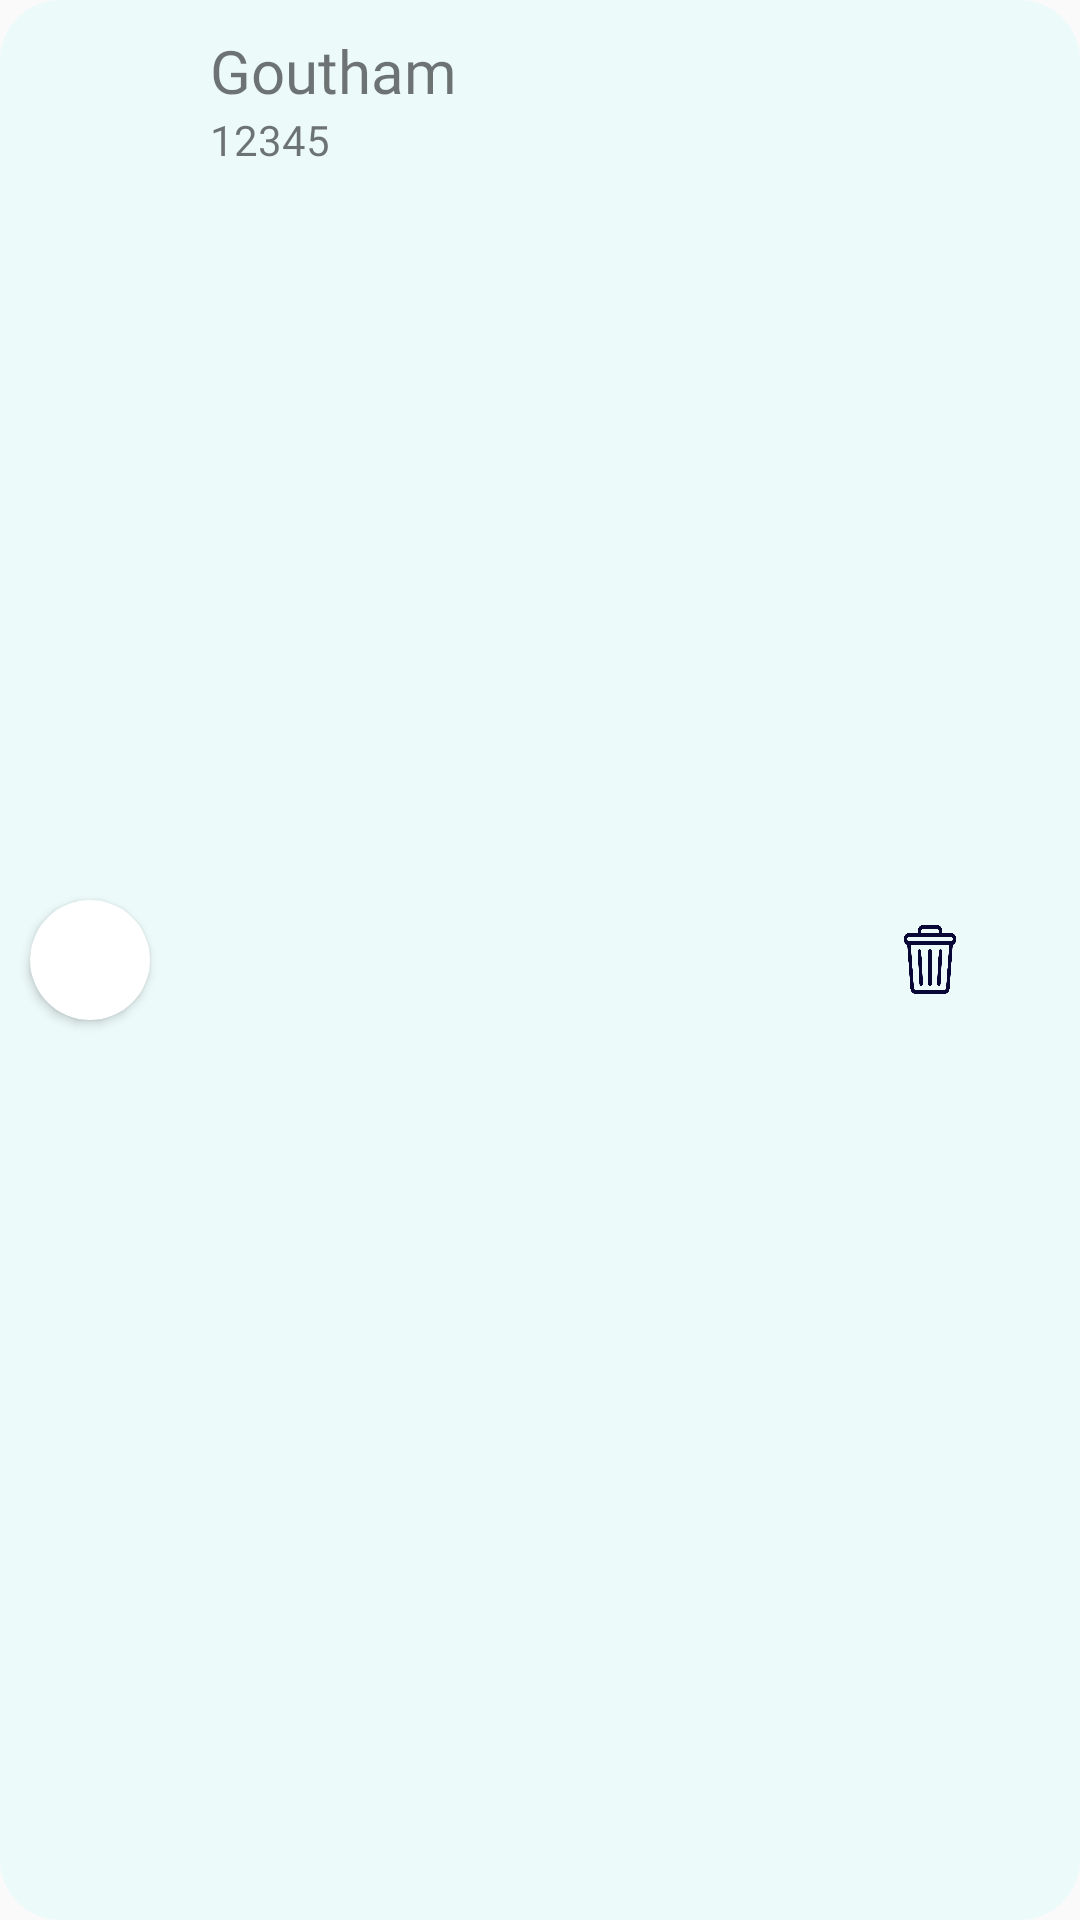

Screen size 1080*1920. Icon name, then its box in pixels as {"x1": x1, "y1": y1, "x2": x2, "y2": y2}:
bin: {"x1": 904, "y1": 925, "x2": 956, "y2": 994}
